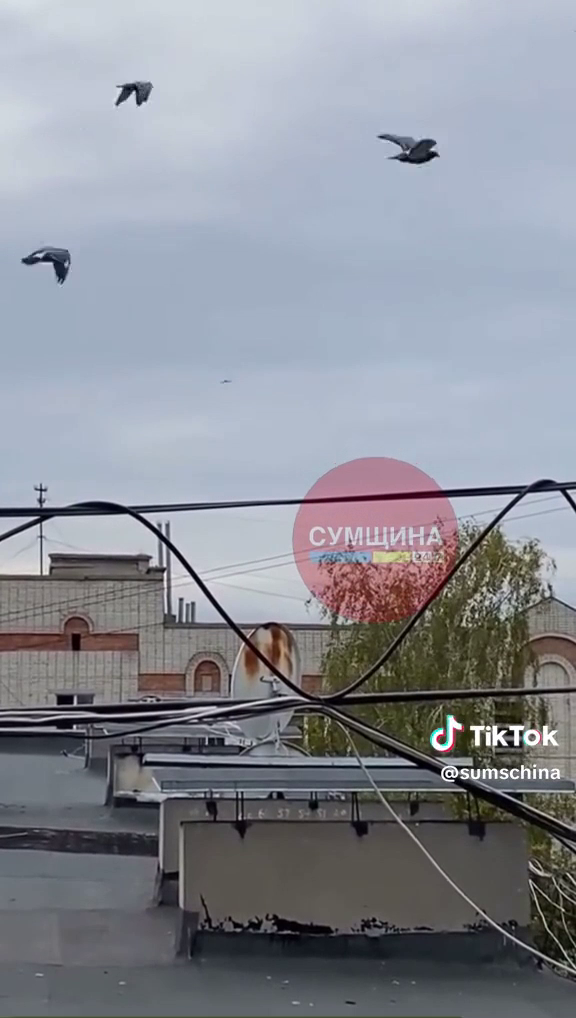not_drone: (14, 237, 89, 295)
